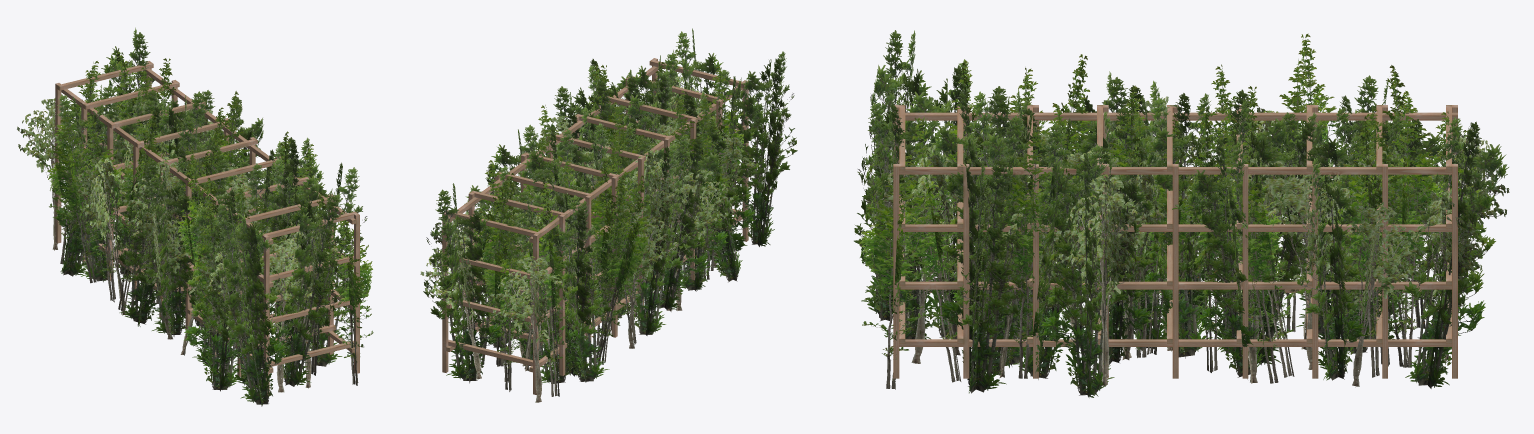
The model's file is SM_Hedgerows.fbx.
3 renders of one model, left to right at view 1: azimuth 30°, elevation 25°; view 2: azimuth 150°, elevation 25°; view 3: azimuth 270°, elevation 25°, orthographic. The views are drawn at different scales.
Visible parts, largest first — view 1: SM_Hedgerows; view 2: SM_Hedgerows; view 3: SM_Hedgerows.
Part boxes in pixels (left/top/right/bottom): SM_Hedgerows: left=17, top=27, right=373, bottom=406; SM_Hedgerows: left=420, top=28, right=797, bottom=402; SM_Hedgerows: left=854, top=30, right=1509, bottom=397.
Size of the model in its own units: 234 by 467 by 231.
Materials: 1 (1 with a texture image).
